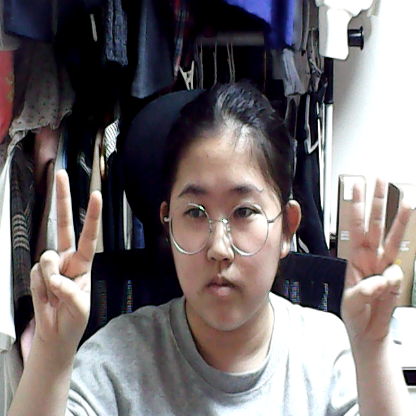Finger_2: (22, 169, 112, 361)
Finger_3: (332, 167, 416, 347)
